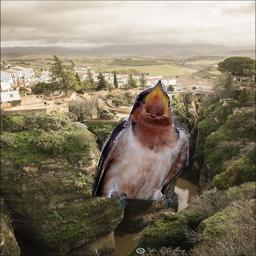Swallow: (92, 79, 189, 208)
